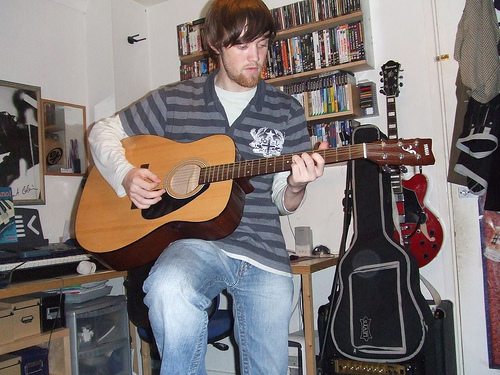guitar: (72, 134, 437, 271)
